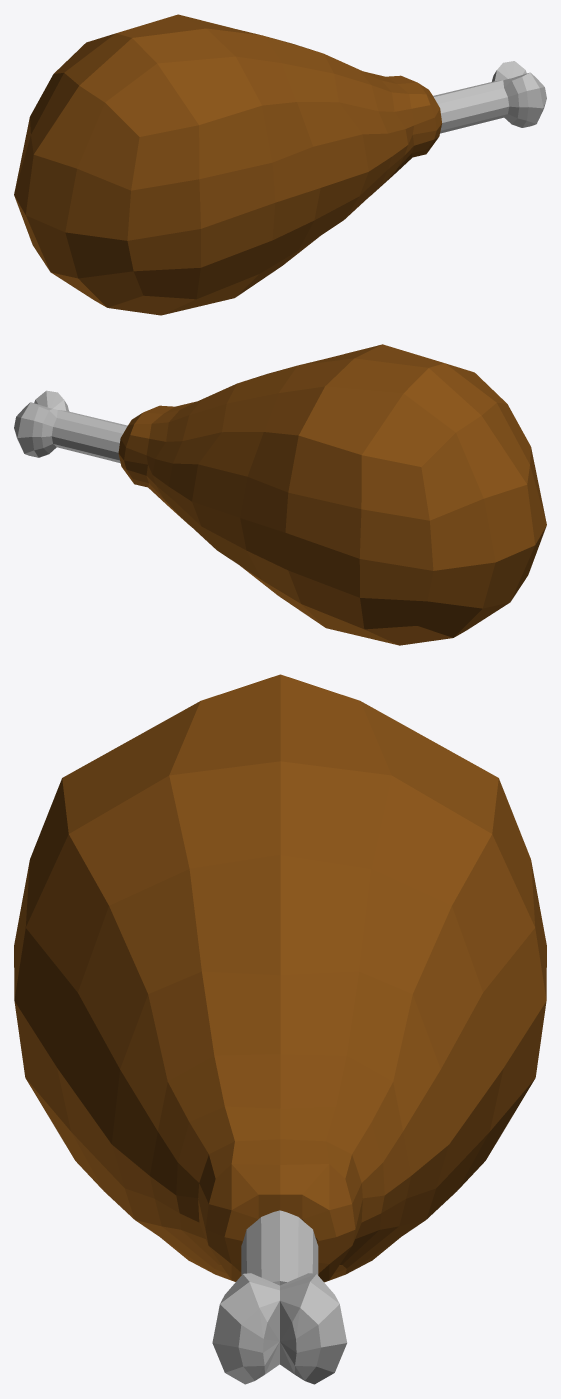
Rendered from muslito.fbx.
The picture shows the model from 3 angles, top to bottom: view 1: azimuth 30°, elevation 25°; view 2: azimuth 150°, elevation 25°; view 3: azimuth 270°, elevation 25°; orthographic projection. The views are drawn at different scales.
Visible parts, largest first — view 1: Cube, Cylinder.001; view 2: Cube, Cylinder.001; view 3: Cube, Cylinder.001.
Boxes of the visible parts, bbox=[...] form: Cube: bbox=[14, 14, 441, 315]; Cylinder.001: bbox=[433, 61, 546, 133]; Cube: bbox=[118, 344, 546, 645]; Cylinder.001: bbox=[14, 390, 127, 463]; Cube: bbox=[14, 674, 546, 1282]; Cylinder.001: bbox=[212, 1210, 347, 1384].
Size of the model in its own units: 562 by 292 by 263.
